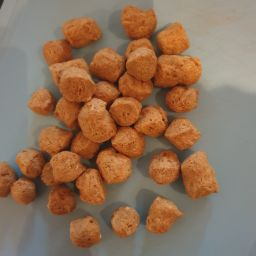Glycine max(soyabean): (7, 7, 247, 256)
